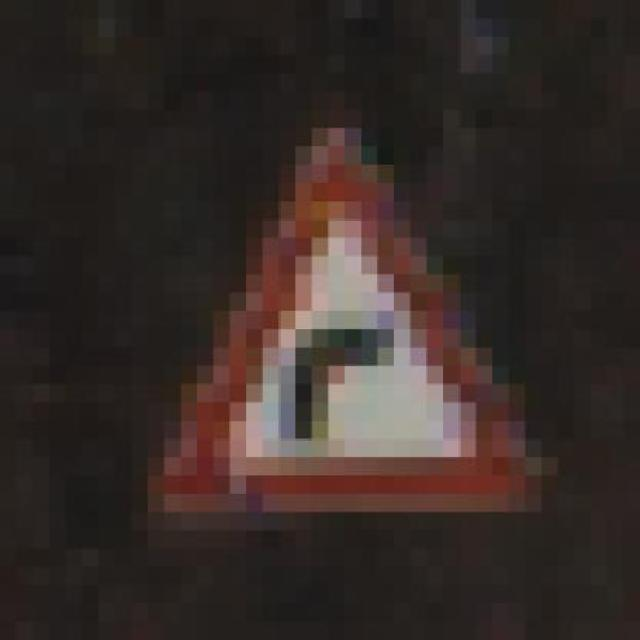Dangerous Rright Curve Ahead: (131, 110, 558, 548)
